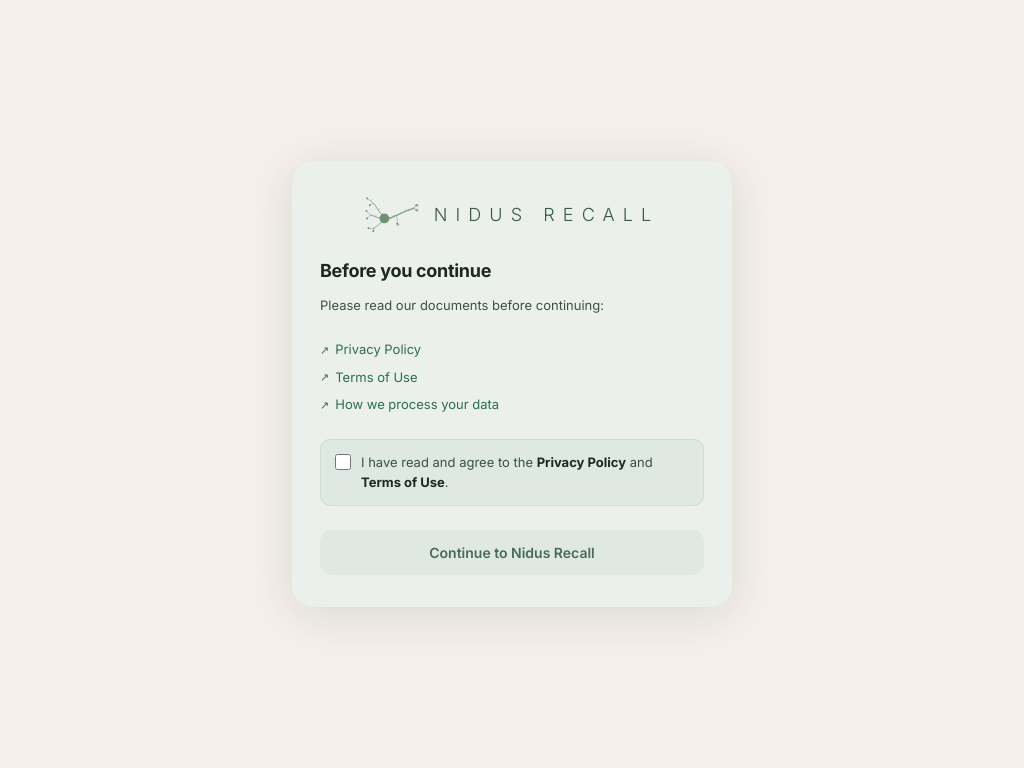
Test: AgreementGate — sign-up consent gate › enables "Continue" button when checkbox is checked
Click the checkbox with test id "agreement-checkbox": (343, 462) [335,454,351,470]
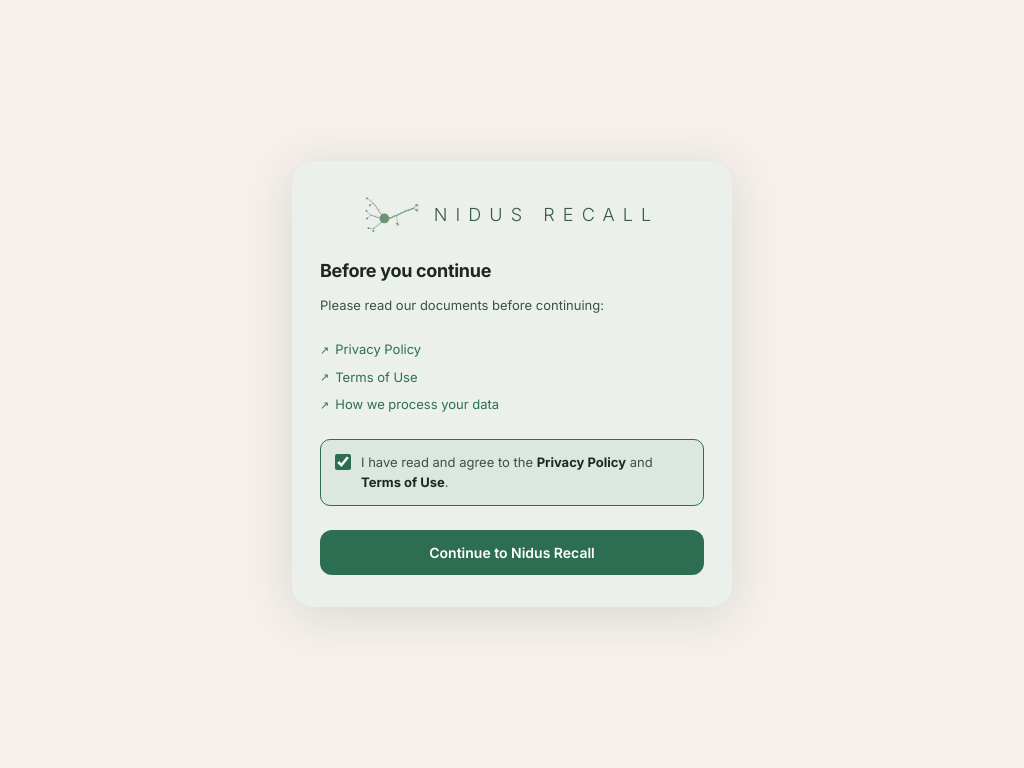
Expected: the button with test id "agreement-continue-btn" is enabled, [320,530,704,575]
